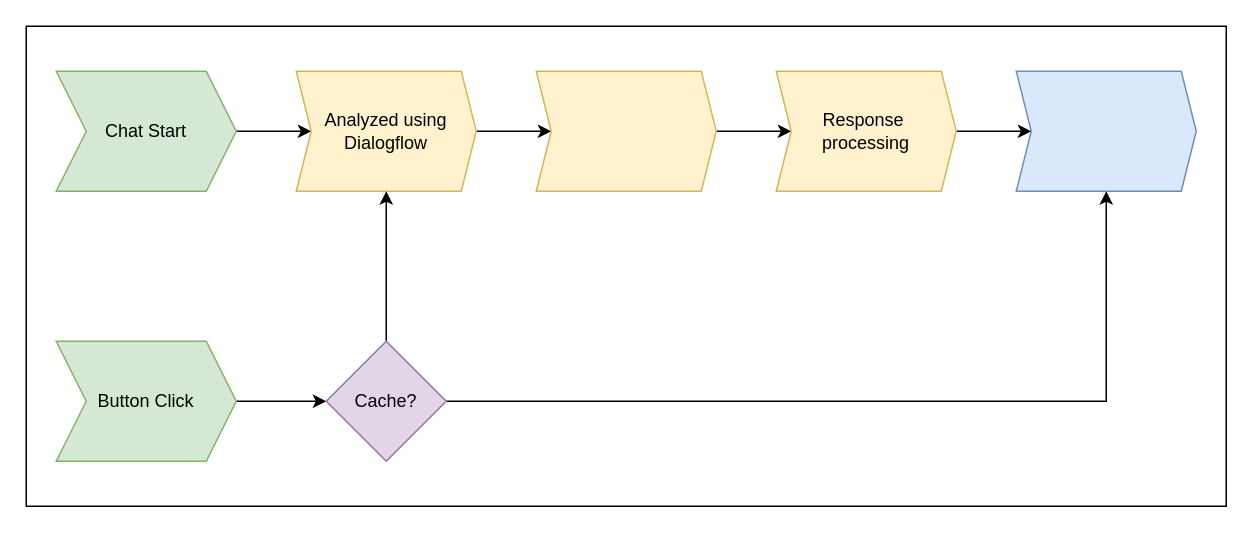
Image size: 1253x533. Some labels were removed from this diagram. Here are the shapes that lost their labels. From the top down, the centre of each, then its label:
the point at 625,130: Identify user intent
the point at 1105,130: Response
